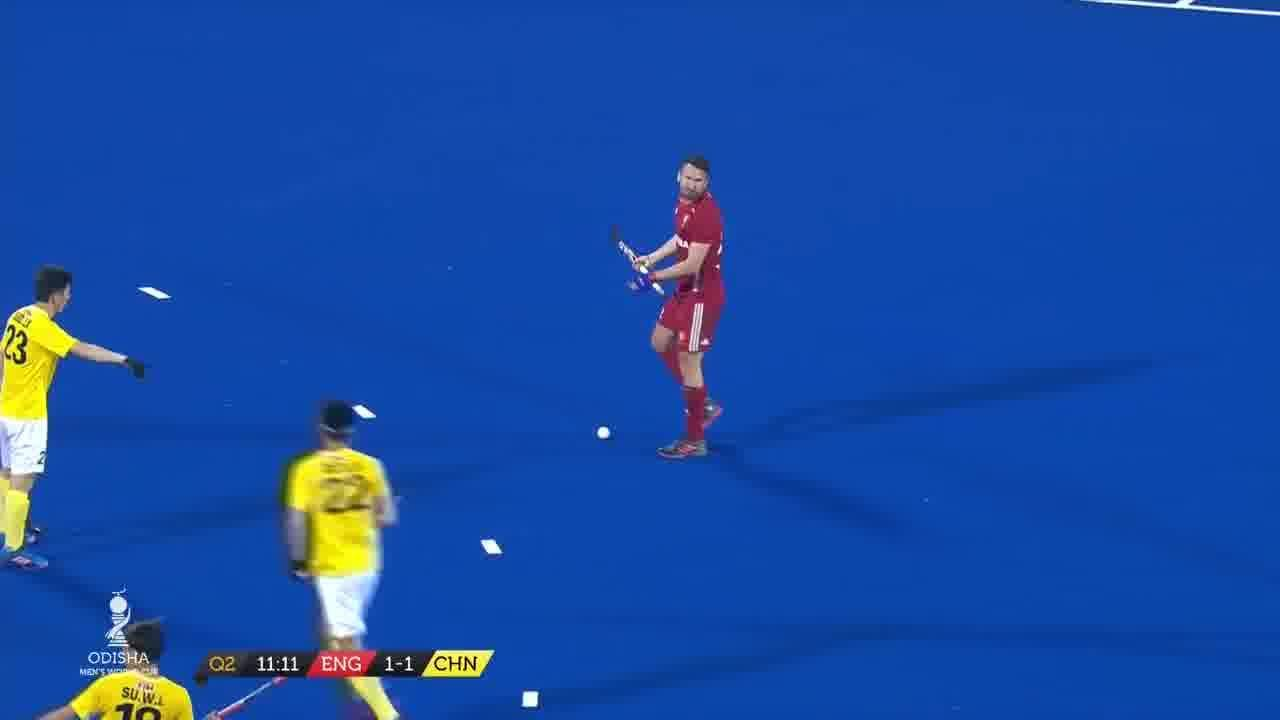ball: (594, 414, 615, 444)
